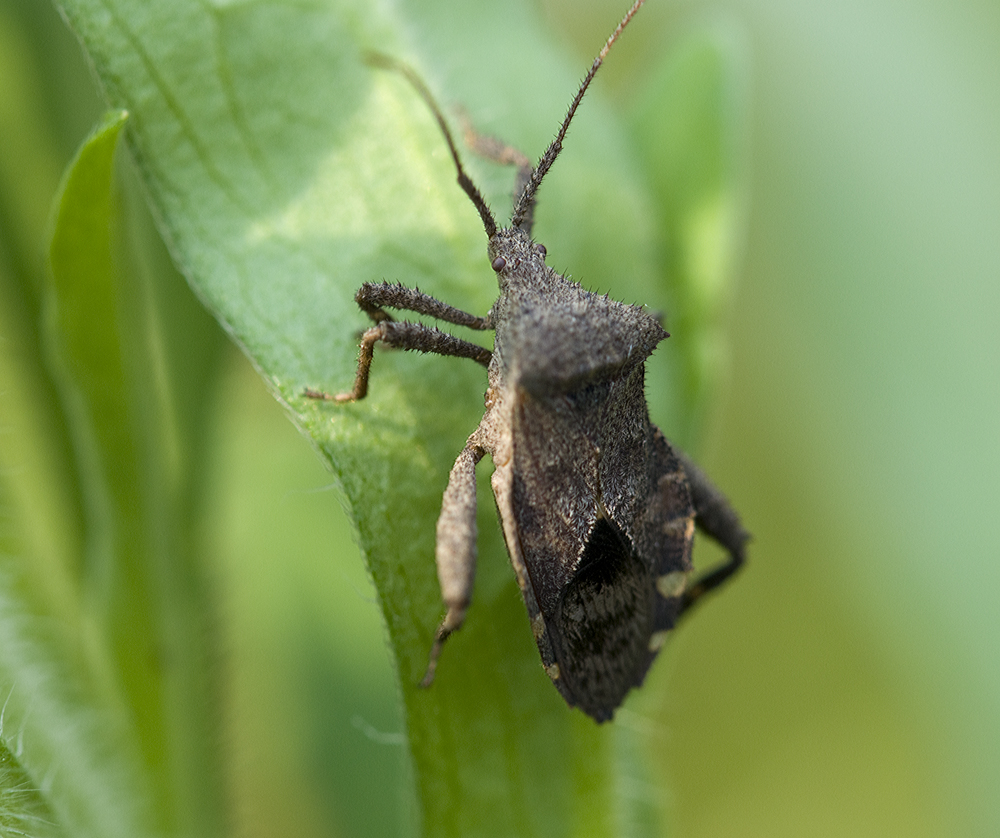chunchong: (349, 187, 744, 716)
